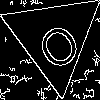O: (29, 13, 85, 74)
